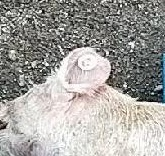text: (69, 45, 105, 79)
